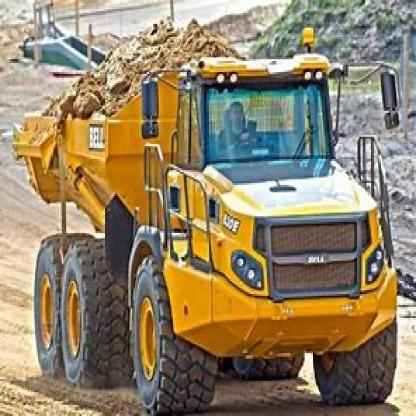dump_truck: (15, 22, 412, 409)
